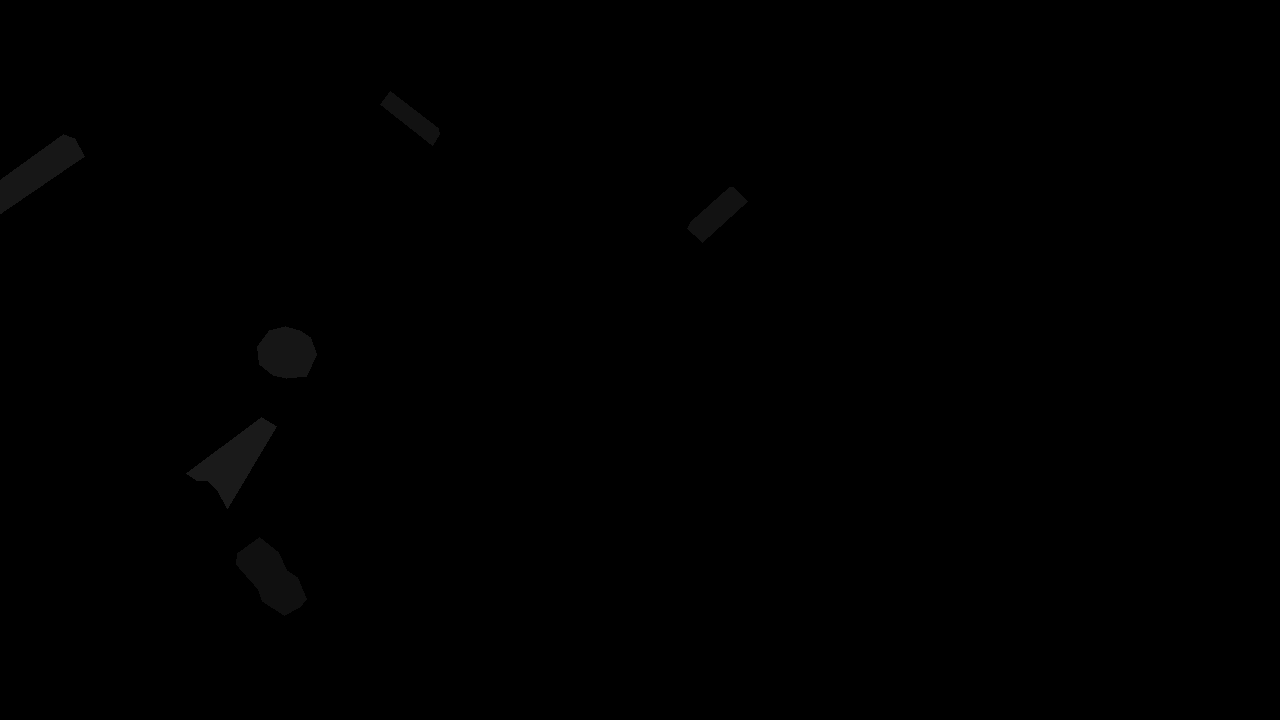Eraser_big: (380, 91, 747, 242)
Glue_pen: (0, 134, 84, 213)
Stapler_stan: (186, 417, 276, 508)
Tape_white: (257, 326, 316, 378)
Yogurt: (236, 537, 306, 615)
